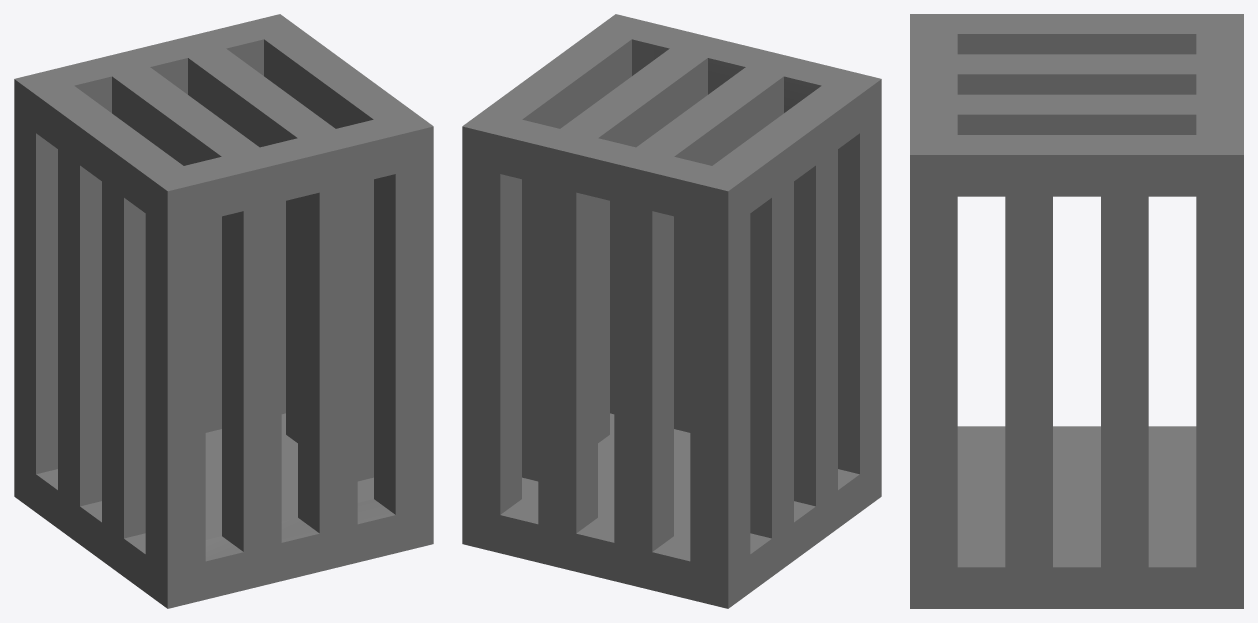
Rendered from Cage.fbx.
3 renders of one model, left to right at view 1: azimuth 30°, elevation 25°; view 2: azimuth 150°, elevation 25°; view 3: azimuth 270°, elevation 25°, orthographic. The views are drawn at different scales.
Visible parts, largest first — view 1: Cage; view 2: Cage; view 3: Cage.
Boxes of the visible parts, <box> form: Cage: <box>14,14,433,608</box>; Cage: <box>462,14,881,608</box>; Cage: <box>910,14,1243,608</box>.
Bounding box in the file's own units: 200 × 300 × 200.
